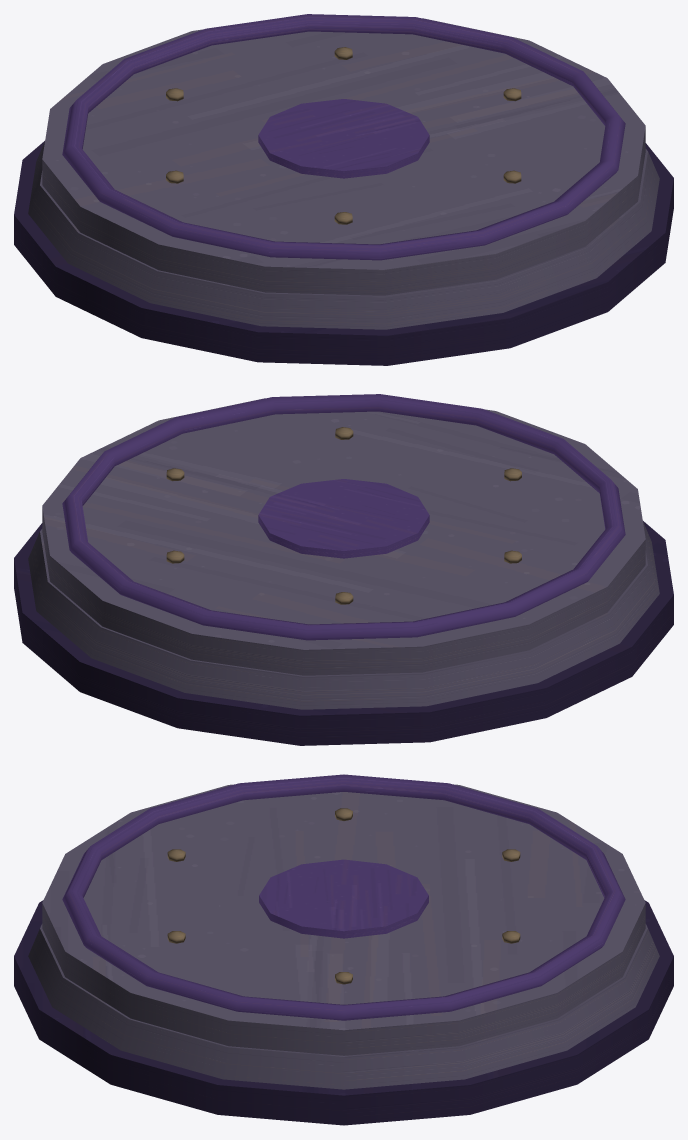
File: socle-trounoir.glb
The picture shows the model from 3 angles, top to bottom: view 1: azimuth 30°, elevation 25°; view 2: azimuth 150°, elevation 25°; view 3: azimuth 270°, elevation 25°; orthographic projection.
Visible parts, largest first — view 1: Plateau, Base, BiseauBas, Liseré, Médaillon; view 2: Plateau, Base, BiseauBas, Liseré, Médaillon; view 3: Plateau, Base, BiseauBas, Liseré, Médaillon.
Boxes of the visible parts, <box> form: Plateau: <box>42,18,645,295</box>; Base: <box>14,141,673,365</box>; BiseauBas: <box>28,142,659,329</box>; Liseré: <box>62,14,625,260</box>; Médaillon: <box>258,99,429,178</box>; Plateau: <box>42,398,645,675</box>; Base: <box>14,521,673,745</box>; BiseauBas: <box>28,522,659,709</box>; Liseré: <box>62,394,625,640</box>; Médaillon: <box>258,479,429,558</box>; Plateau: <box>42,784,645,1055</box>; Base: <box>14,900,673,1125</box>; BiseauBas: <box>28,924,659,1089</box>; Liseré: <box>62,774,625,1020</box>; Médaillon: <box>259,859,428,938</box>.
Size of the model in its own units: 2.8 by 0.4478 by 2.8.
5 materials, 5 textured.
